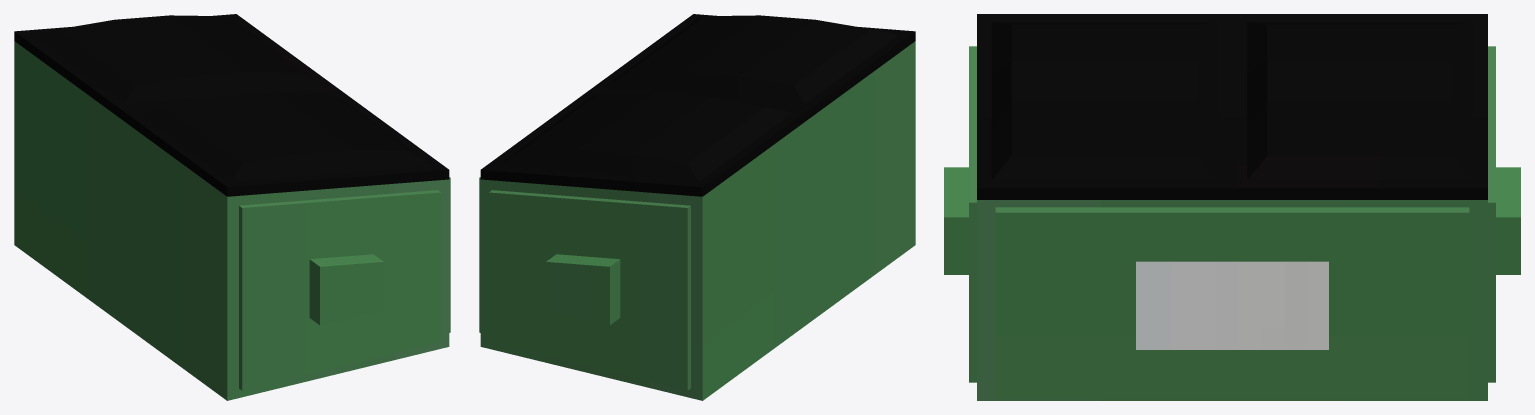
The model's file is dumpster.glb.
3 views of the same model, side by side, from view 1: azimuth 30°, elevation 25°; view 2: azimuth 150°, elevation 25°; view 3: azimuth 270°, elevation 25° (orthographic). The views are drawn at different scales.
Visible parts, largest first — view 1: Cube.006_Cube.024; view 2: Cube.006_Cube.024; view 3: Cube.006_Cube.024.
Boxes of the visible parts, x1,y1,x2,y2 form: Cube.006_Cube.024: [14, 14, 450, 400]; Cube.006_Cube.024: [479, 14, 915, 400]; Cube.006_Cube.024: [944, 14, 1520, 400].
Size of the model in its own units: 3.37 by 3.06 by 6.07.
1 material, 1 textured.
